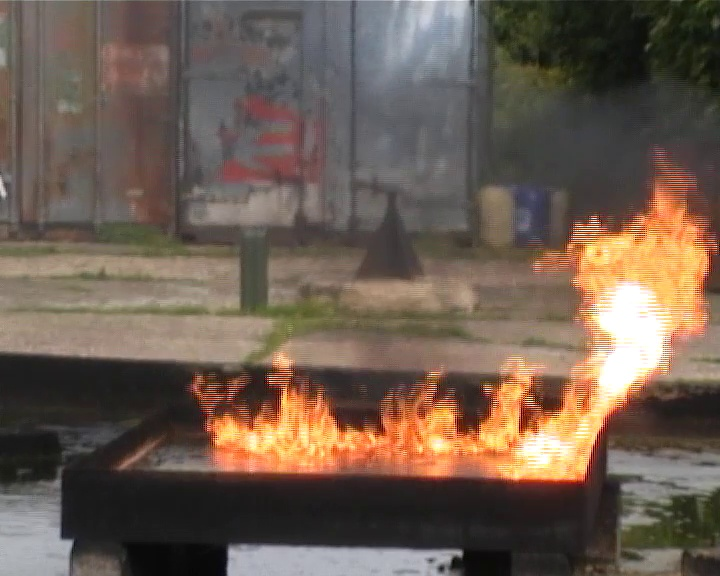fire: (209, 173, 720, 474)
